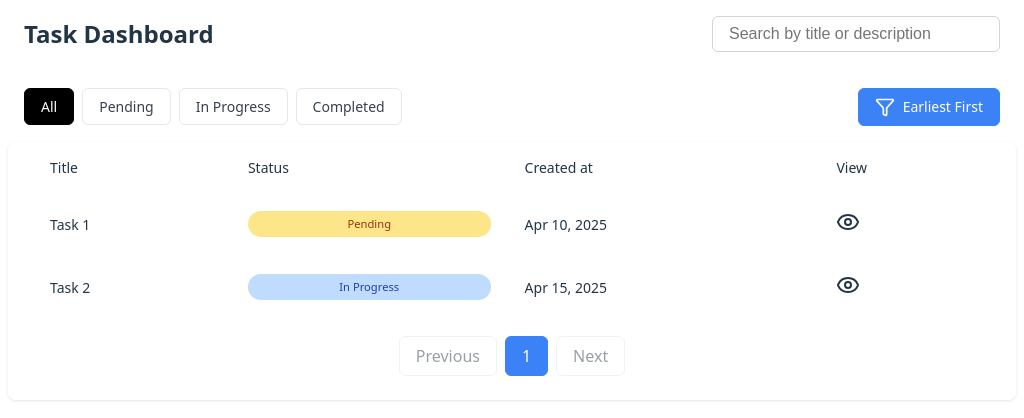
Dashboard Component › search tasks
This screenshot has width=1024, height=418.
Expected: the text "Task 1" is shown, [34,194,230,254]
// Type "Task 2" in the search bar
Type "Task 2" into the field with placeholder "Search by title or description" at (856, 34), box [712,16,1000,52]
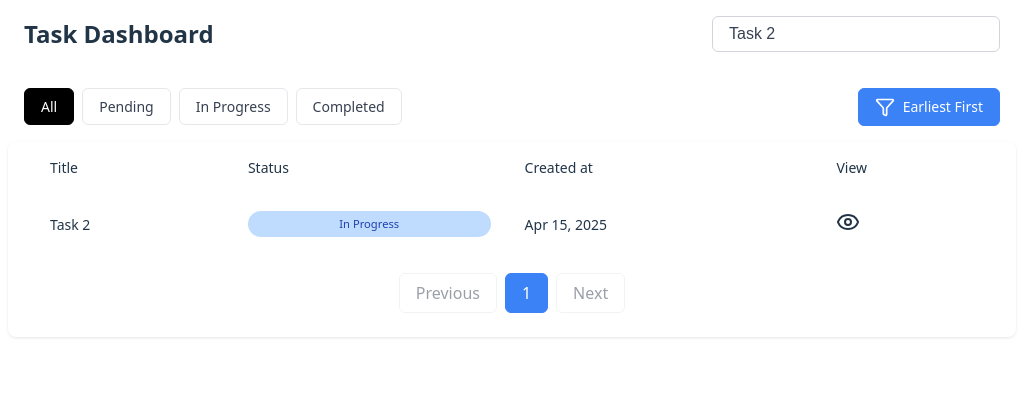
Expected: the text "Task 2" is shown, [34,194,230,254]
Now the text "Task 1" is gone
